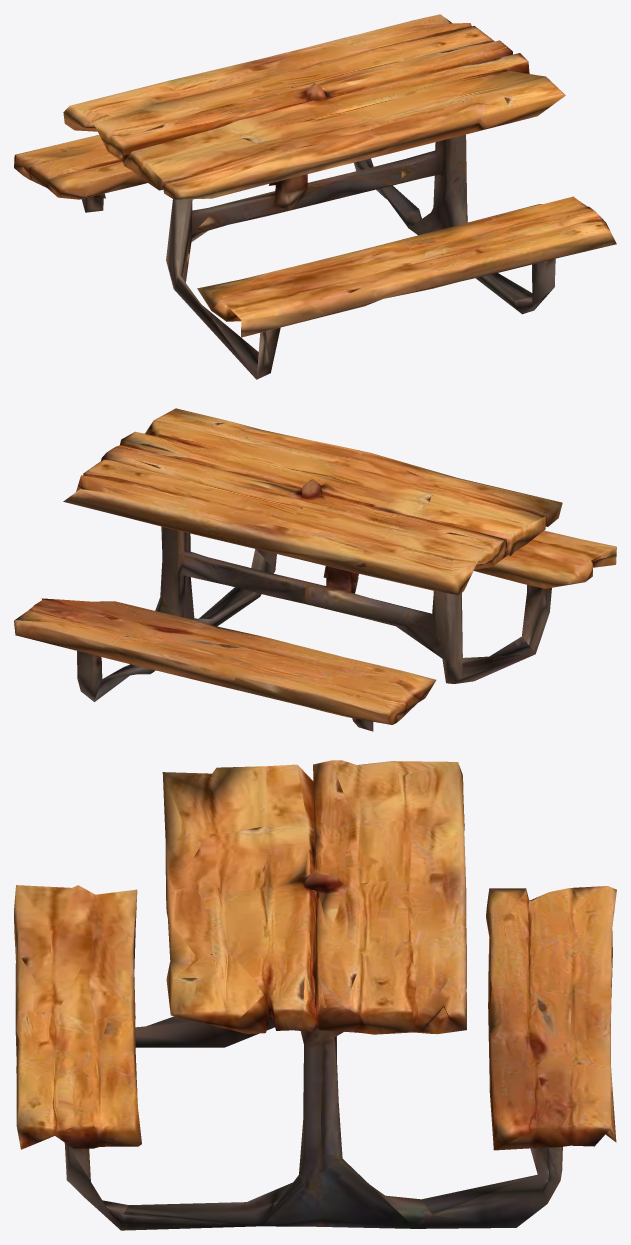
The model's file is park_picnic.opt.glb.
3 views of the same model, one above another, from view 1: azimuth 30°, elevation 25°; view 2: azimuth 150°, elevation 25°; view 3: azimuth 270°, elevation 25° (orthographic). The views are drawn at different scales.
Parts seen in each view (by area): view 1: tripo_node_de228606-3927-4d96-b96f-a452a702cdc8; view 2: tripo_node_de228606-3927-4d96-b96f-a452a702cdc8; view 3: tripo_node_de228606-3927-4d96-b96f-a452a702cdc8.
Part boxes in pixels (x1=…): tripo_node_de228606-3927-4d96-b96f-a452a702cdc8: x1=14, y1=14, x2=616, y2=379; tripo_node_de228606-3927-4d96-b96f-a452a702cdc8: x1=14, y1=408, x2=616, y2=731; tripo_node_de228606-3927-4d96-b96f-a452a702cdc8: x1=14, y1=760, x2=616, y2=1230.
Size of the model in its own units: 0.9798 by 0.4822 by 0.9769.
1 material, 1 textured.
